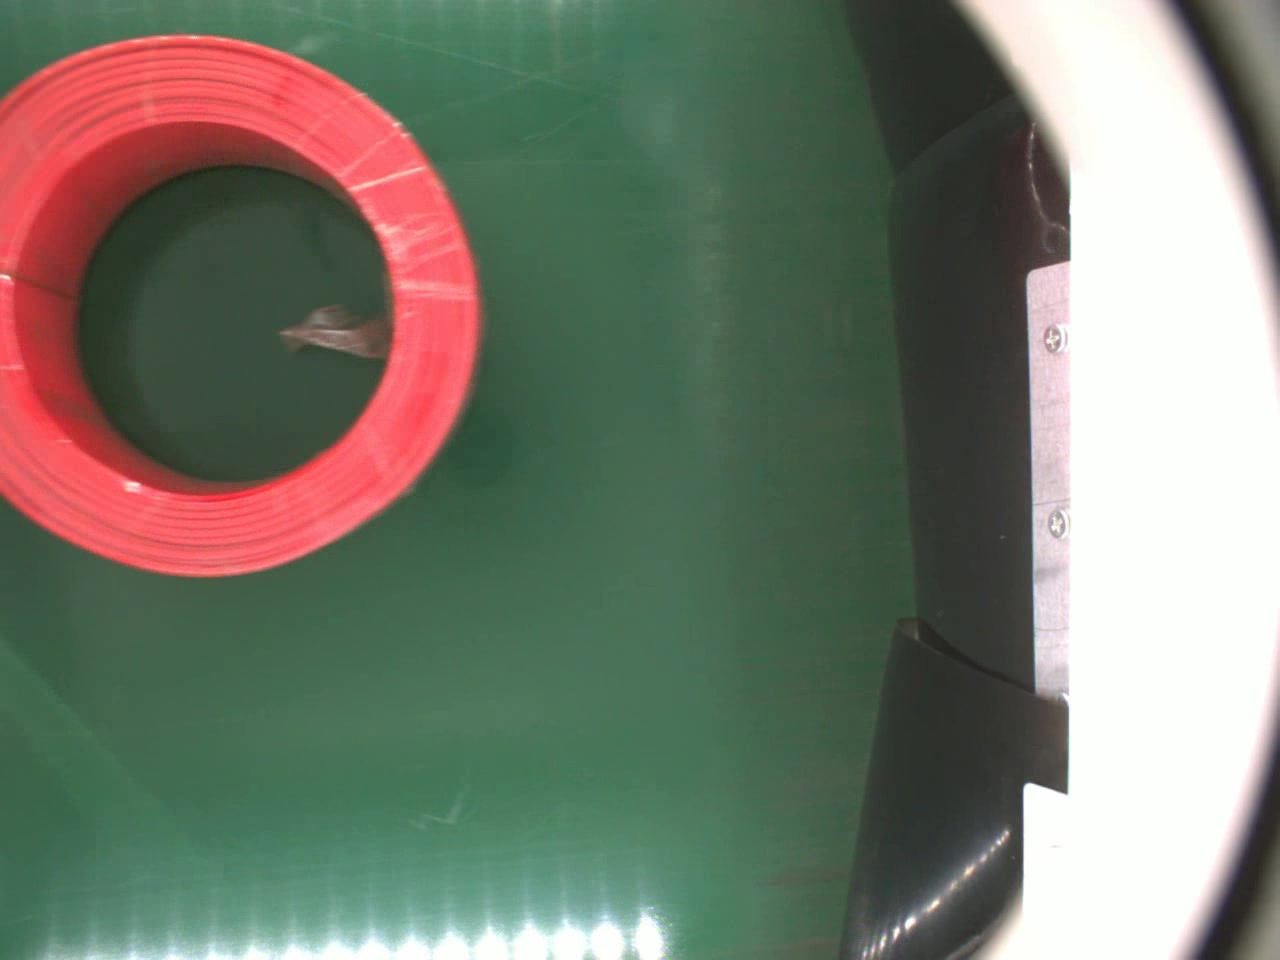red: (0, 33, 482, 574)
